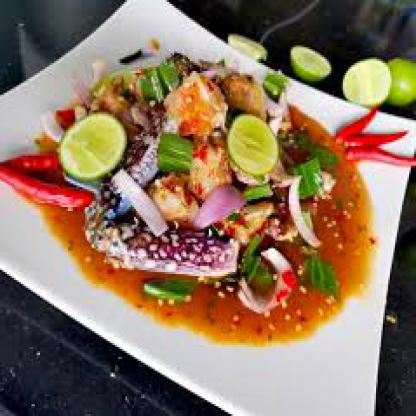Yum: (26, 35, 387, 361)
